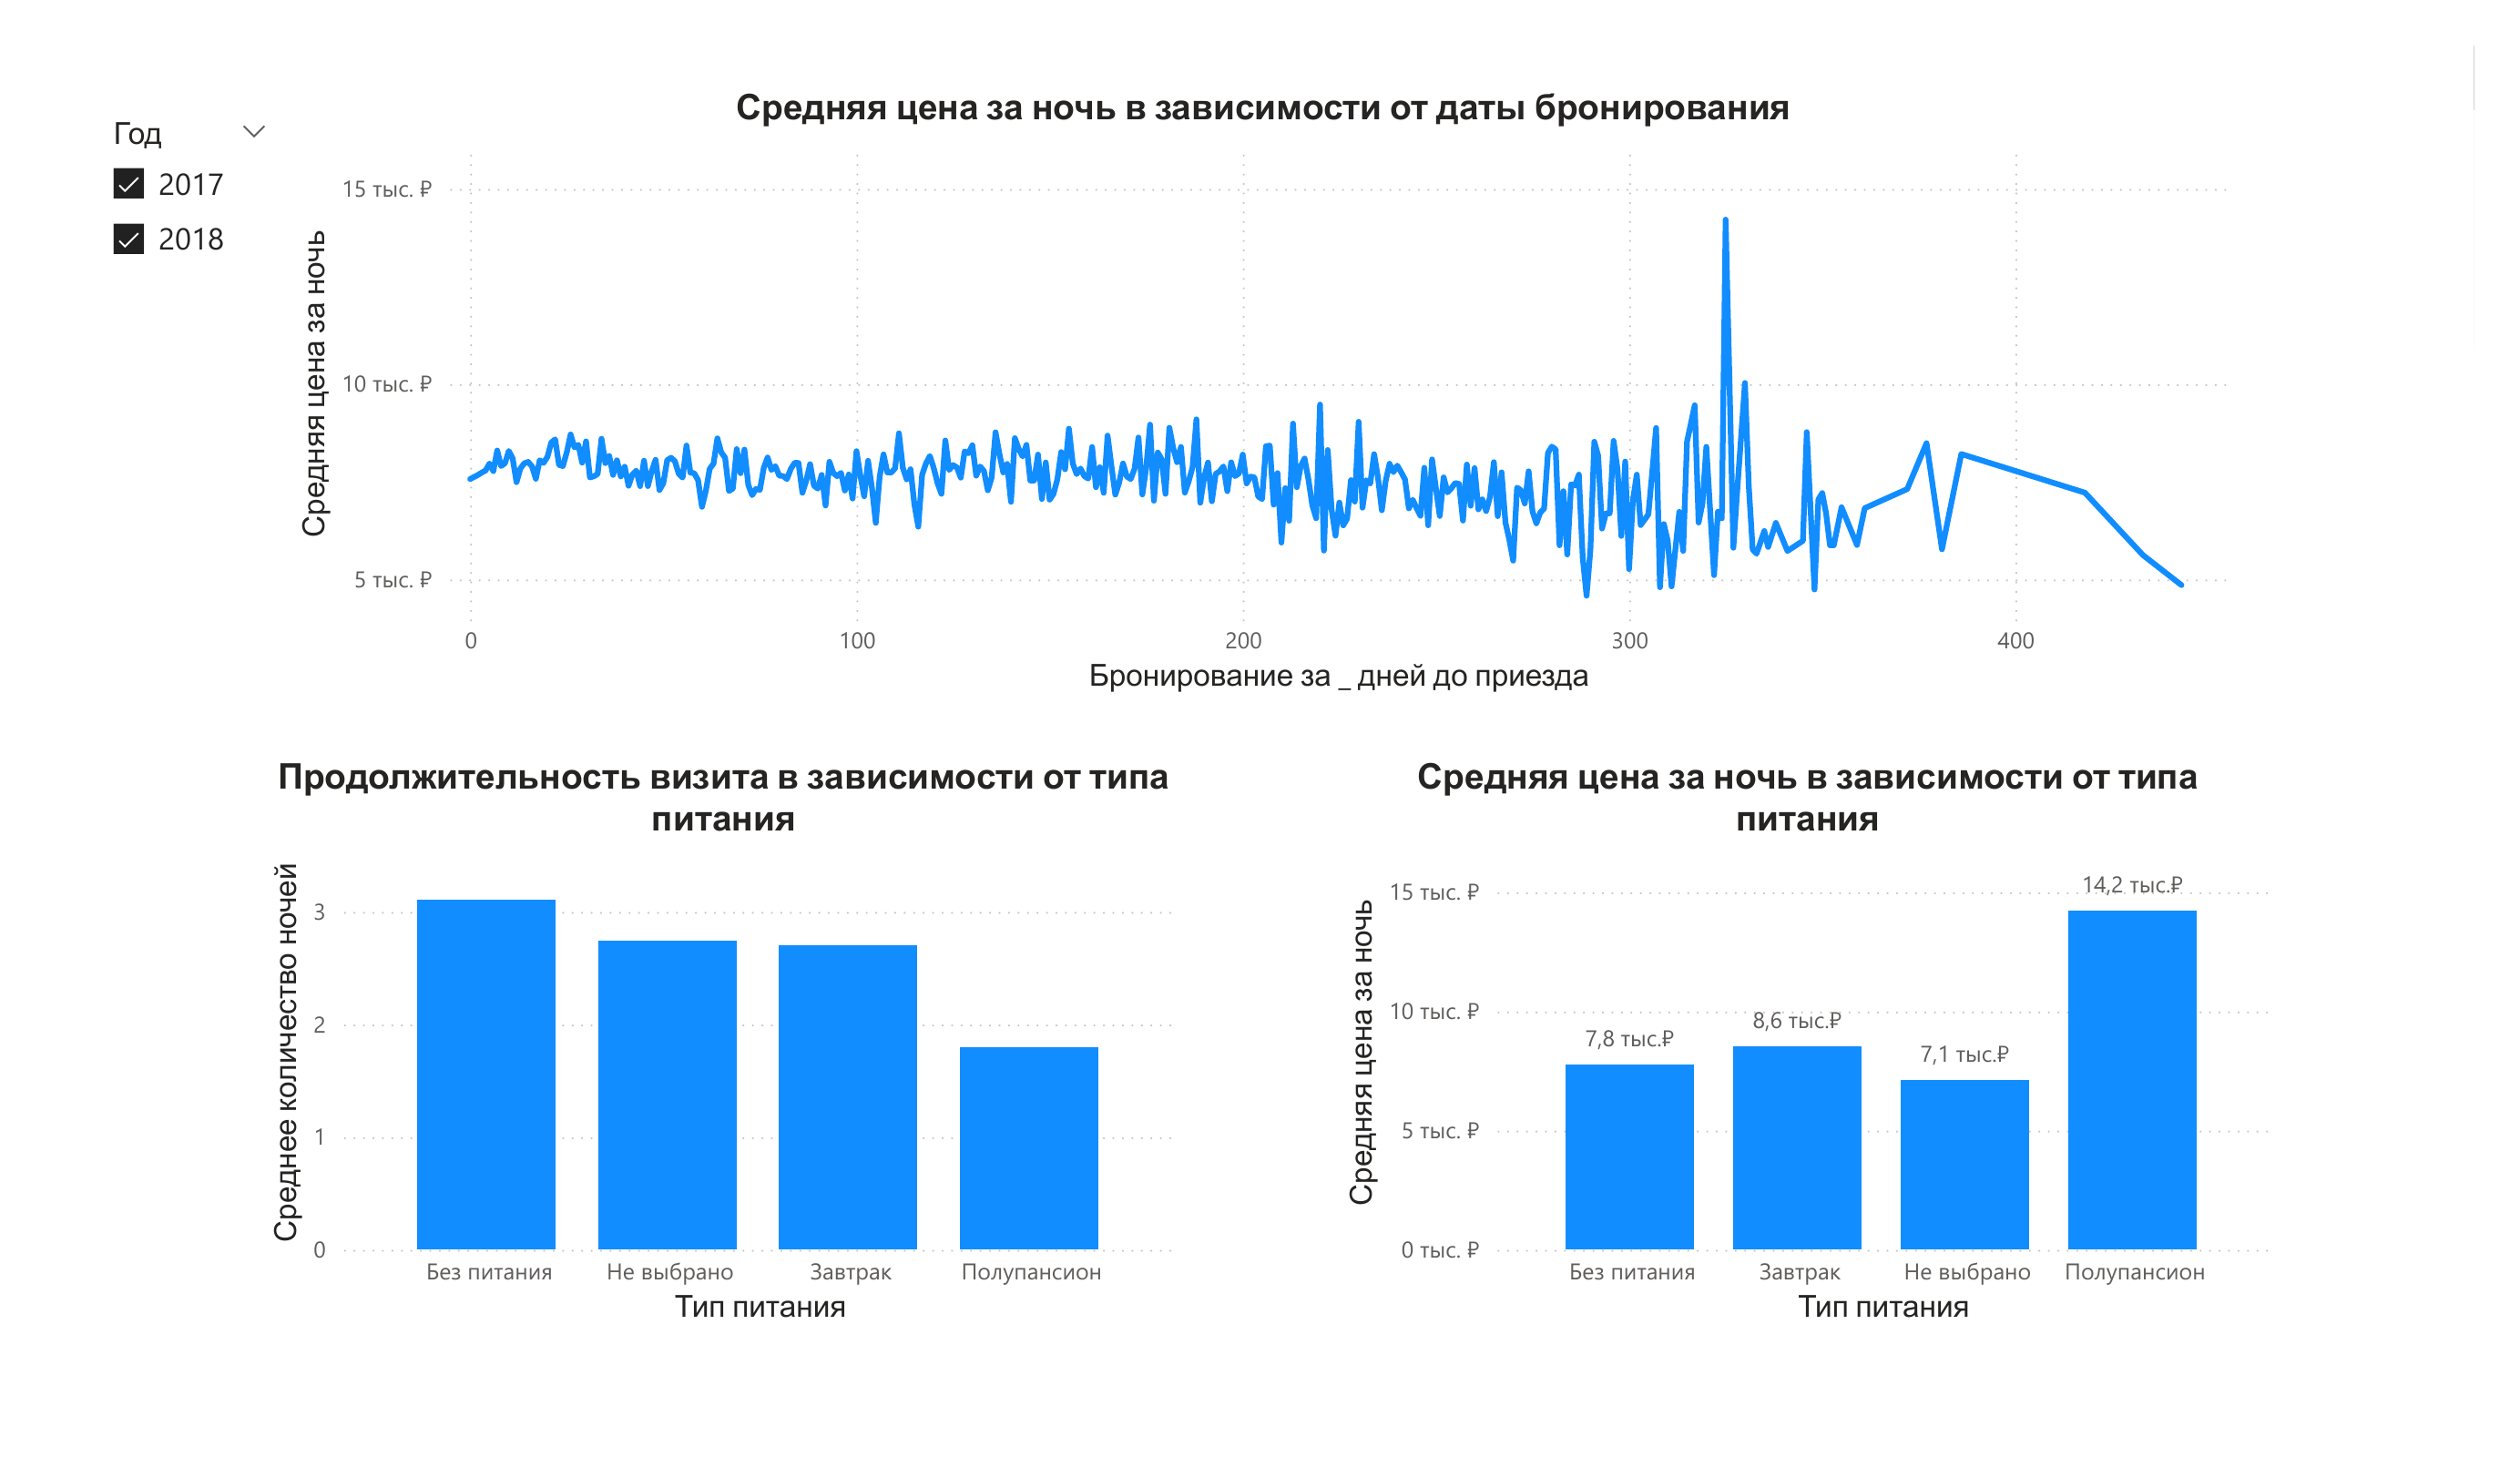

Layout of this report page (visuals, bound fields, positions):
{"tool":"powerbi","page":{"name":"Страница 2","canvas":[1280,720],"ordinal":1},"visuals":[{"type":"columnChart","title":"Средняя цена за ночь в зависимости от типа питания","fields":{"Category":["meals.name"],"Y":["Avg(Hotel.Цена)"]},"box":[680.6,374.6,496.7,304.6],"z":0},{"type":"columnChart","title":"Продолжительность визита в зависимости от типа питания","fields":{"Category":["meals.name"],"Y":["Avg(Hotel.nights)"]},"box":[113.9,374.6,487.1,304.6],"z":1},{"type":"lineChart","title":"Средняя цена за ночь в зависимости от даты бронирования","fields":{"Y":["Avg(Hotel.Цена)"],"Category":["Hotel.lead_time"]},"box":[129,22,1026.4,323.8],"z":2},{"type":"slicer","fields":{"Values":["Hotel.Год"]},"box":[23.1,32.5,105.7,98.8],"z":3}]}

Visuals, with their boxes in screenshot pixels (x1, y1, x2, y2):
"Средняя цена за ночь в зависимости от типа питания" columnChart: BBox(1337, 756, 2280, 1334)
"Продолжительность визита в зависимости от типа питания" columnChart: BBox(261, 756, 1186, 1334)
"Средняя цена за ночь в зависимости от даты бронирования" lineChart: BBox(291, 87, 2238, 701)
slicer - Hotel.Год: BBox(89, 107, 290, 295)
